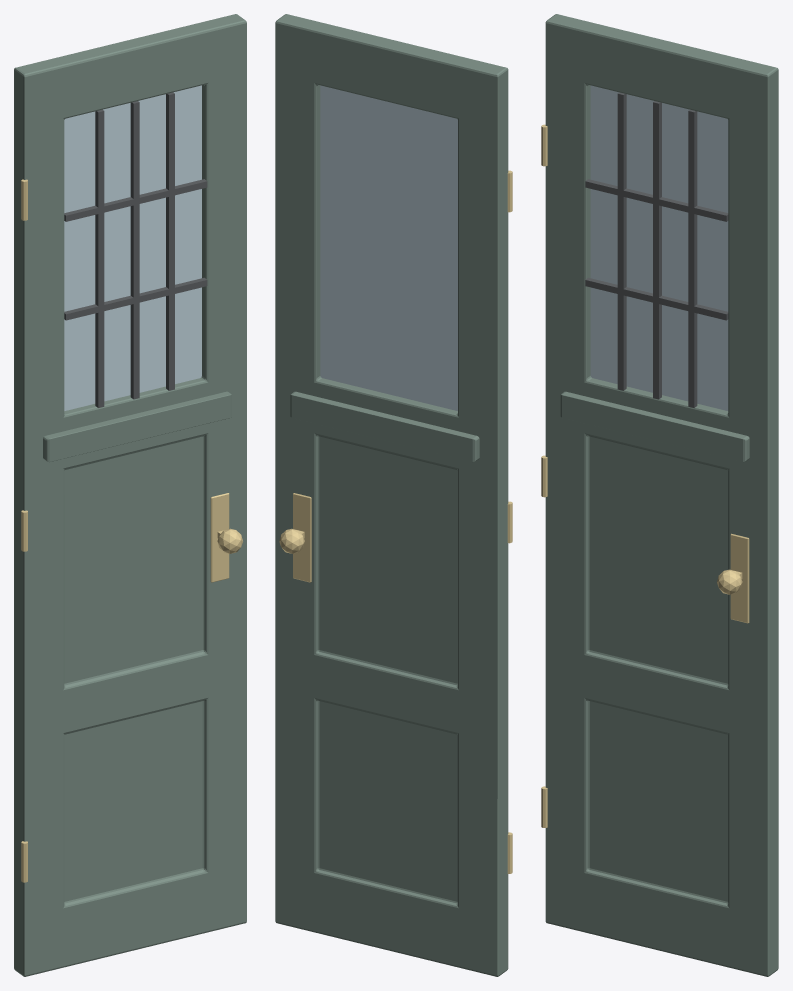
Rendered from door_leaf_front.glb.
3 renders of one model, left to right at view 1: azimuth 30°, elevation 25°; view 2: azimuth 150°, elevation 25°; view 3: azimuth 330°, elevation 25°, orthographic.
Visible parts, largest first — view 1: door_leaf_front_door, door_leaf_front_glass, door_leaf_front_iron, door_leaf_front_brass; view 2: door_leaf_front_door, door_leaf_front_glass, door_leaf_front_brass; view 3: door_leaf_front_door, door_leaf_front_glass, door_leaf_front_iron, door_leaf_front_brass.
Part boxes in pixels (x1,y1,x2,y2): door_leaf_front_door: [14, 14, 246, 976]; door_leaf_front_glass: [64, 85, 201, 410]; door_leaf_front_iron: [64, 92, 207, 407]; door_leaf_front_brass: [21, 179, 242, 882]; door_leaf_front_door: [275, 14, 508, 976]; door_leaf_front_glass: [320, 85, 457, 410]; door_leaf_front_brass: [279, 170, 512, 873]; door_leaf_front_door: [545, 14, 778, 976]; door_leaf_front_glass: [590, 85, 728, 410]; door_leaf_front_iron: [585, 92, 728, 407]; door_leaf_front_brass: [541, 124, 749, 827].
Bounding box in the file's own units: 0.608 × 2.32 × 0.21.
